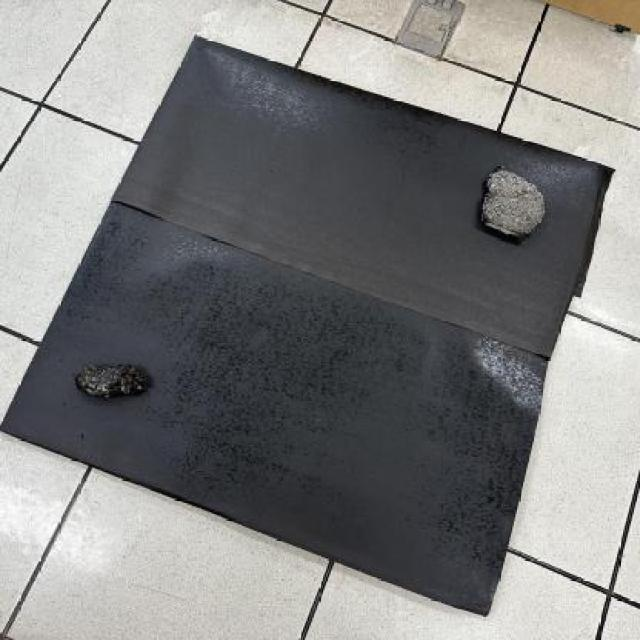Road Debris: (71, 364, 155, 404), (486, 192, 544, 236)
